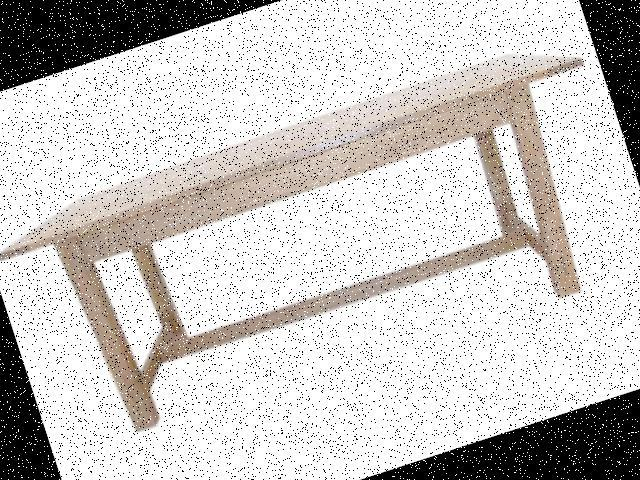Mesa: (0, 39, 639, 454)
